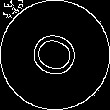O_E: (23, 26, 87, 84)
